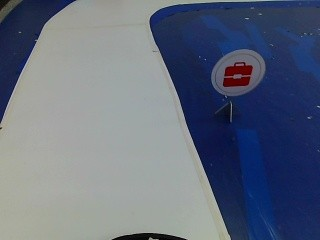company: (213, 47, 262, 99)
